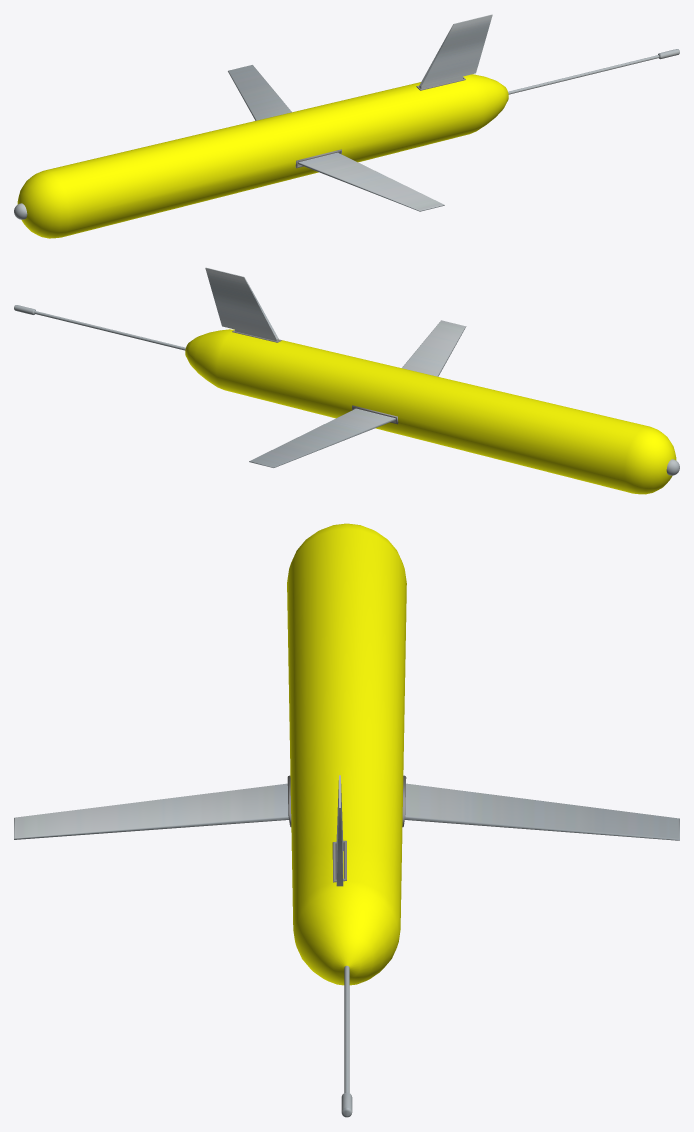
Rendered from SXS_20240126.fbx.
3 views of the same model, one above another, from view 1: azimuth 30°, elevation 25°; view 2: azimuth 150°, elevation 25°; view 3: azimuth 270°, elevation 25° (orthographic). The views are drawn at different scales.
Parts seen in each view (by area): view 1: 滑翔机; view 2: 滑翔机; view 3: 滑翔机.
Boxes of the visible parts, bbox=[...] form: 滑翔机: bbox=[14, 14, 679, 238]; 滑翔机: bbox=[14, 267, 679, 494]; 滑翔机: bbox=[14, 523, 679, 1117].
Size of the model in its own units: 9.97 by 1.66 by 5.
Materials: 3 (2 with a texture image).
